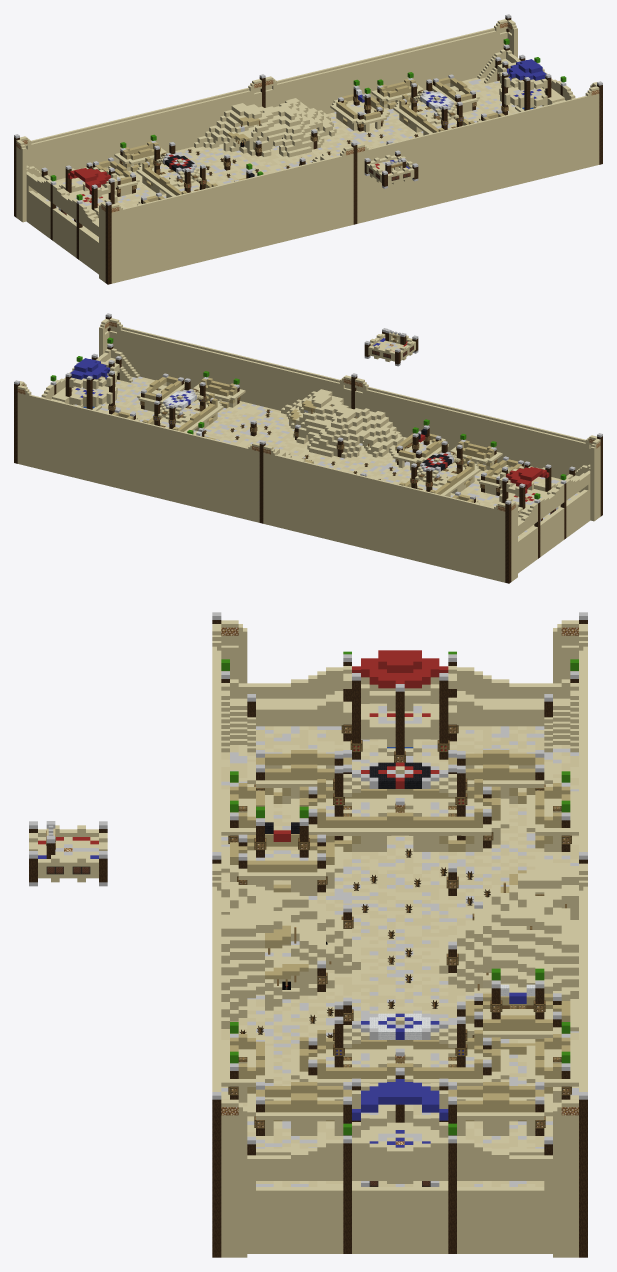
The model's file is minecraft.obj.
3 views of the same model, one above another, from view 1: azimuth 30°, elevation 25°; view 2: azimuth 150°, elevation 25°; view 3: azimuth 270°, elevation 25° (orthographic). The views are drawn at different scales.
Bounding box in the file's own units: 131 × 23.5 × 64.
